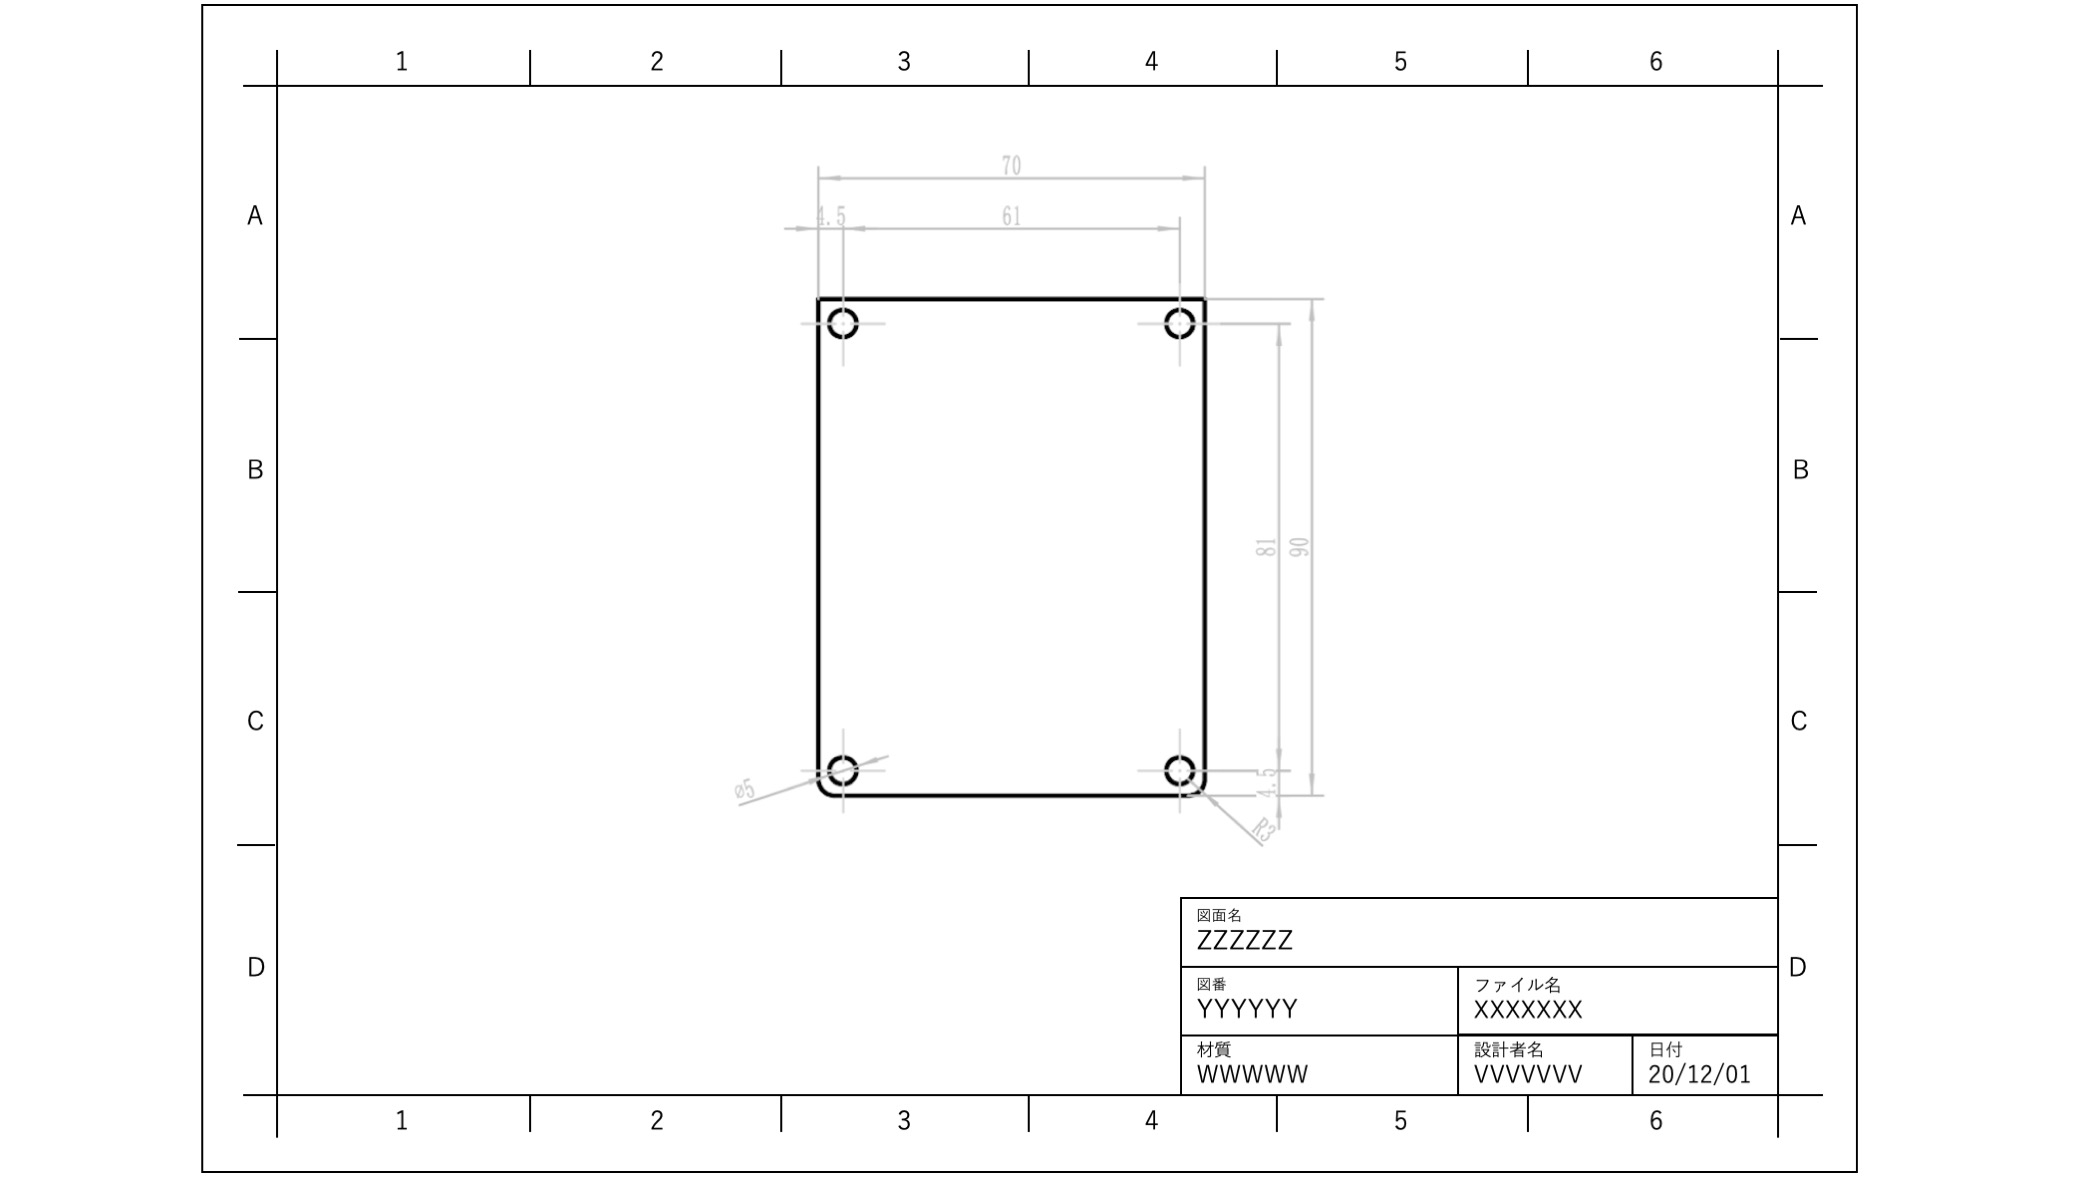circle: (824, 741, 875, 789), (1155, 304, 1199, 350), (1157, 746, 1203, 789), (821, 301, 868, 339)
